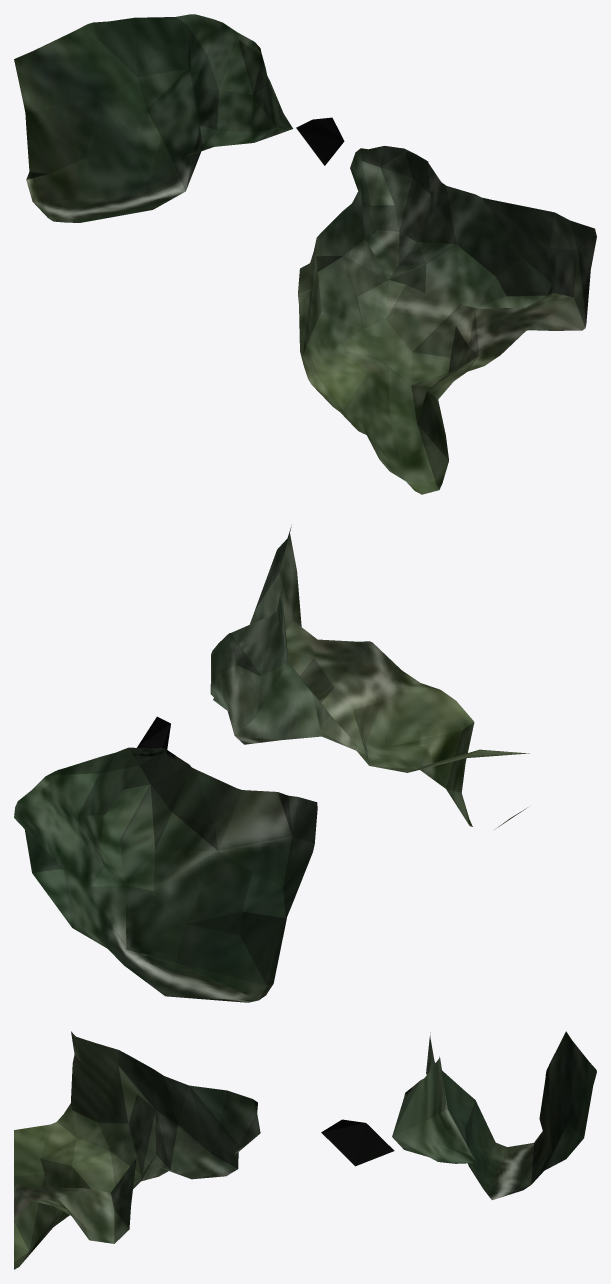
3 renders of one model, top to bottom at view 1: azimuth 30°, elevation 25°; view 2: azimuth 150°, elevation 25°; view 3: azimuth 270°, elevation 25°, orthographic. The views are drawn at different scales.
Bounding box in the file's own units: 2.04 × 1.6 × 4.36.
Materials: 1 (1 with a texture image).
